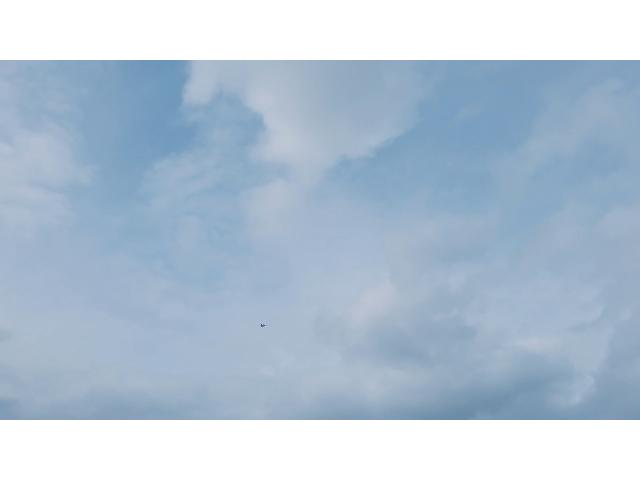Anti-Drone: (256, 320, 268, 330)
